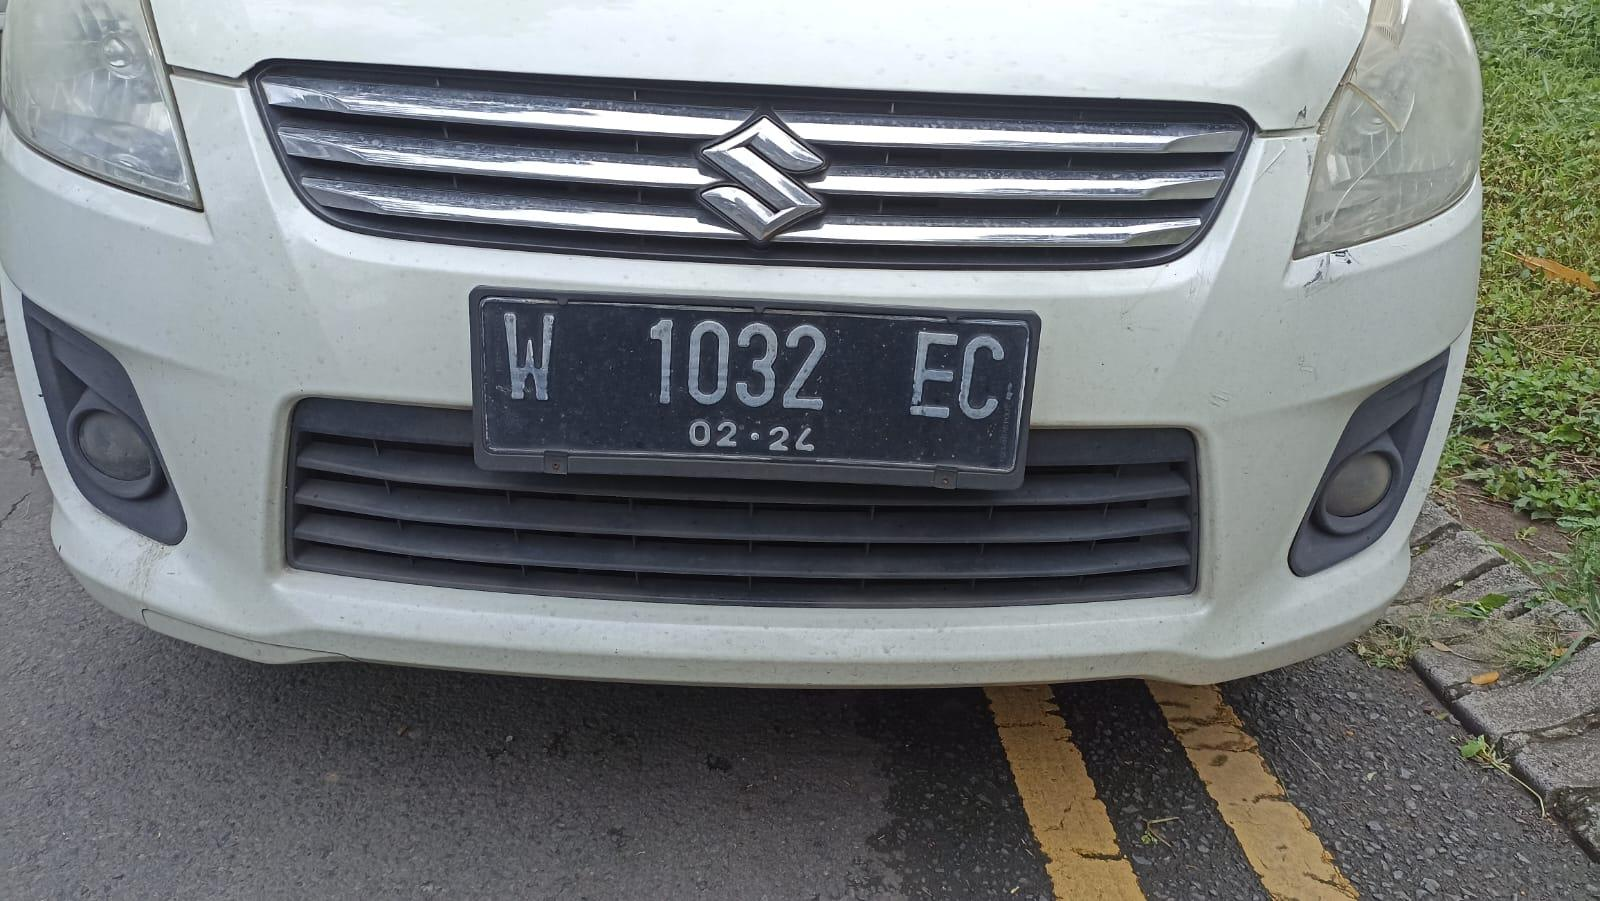plat: (482, 299, 1025, 467)
